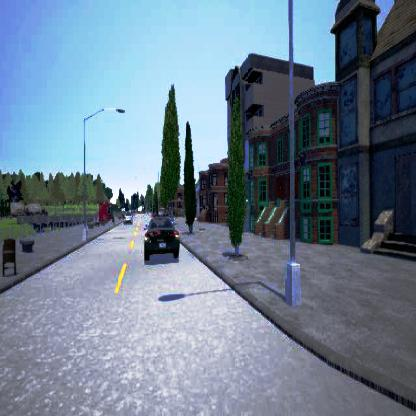vehicle: (142, 214, 179, 260), (121, 209, 133, 223)
